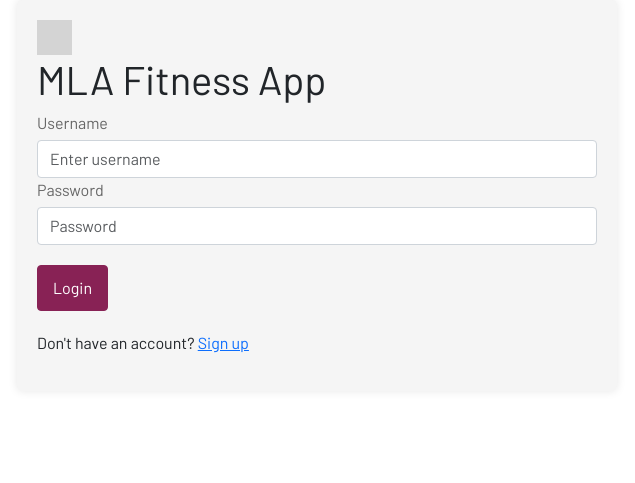
Test case: Login component › displays error message on failed login
In the field with test id "username-input": x=317, y=159 [37, 140, 597, 178], type "invaliduser"
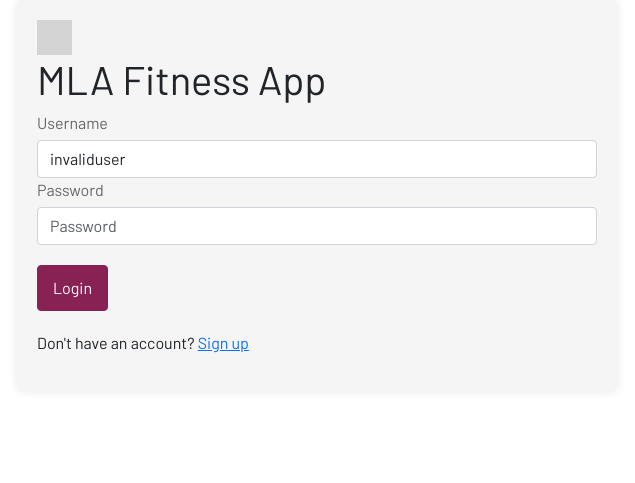
In the password field with test id "password-input": x=317, y=226 [37, 207, 597, 245], type "invalidpassword"
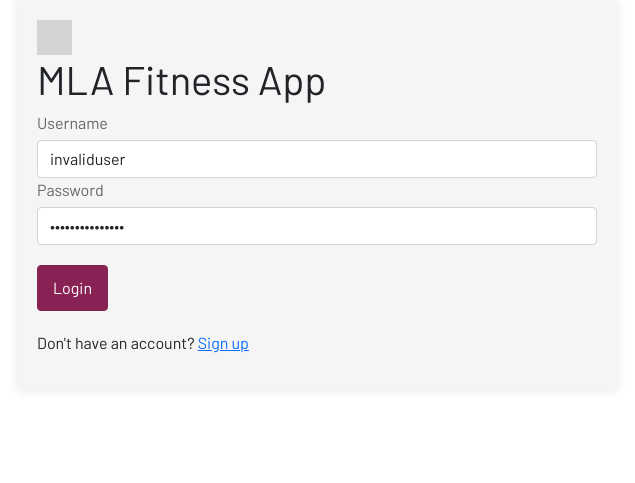
Click the button with test id "login-button": x=73, y=288 [37, 265, 108, 311]
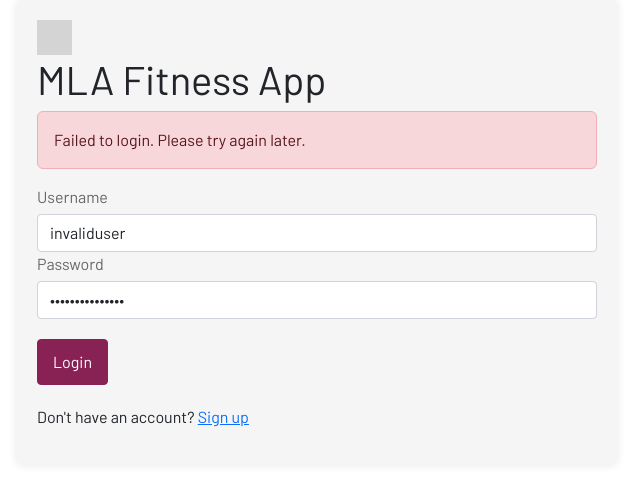
Expected: the message with test id "error-alert" shows "Failed to login", [54, 130, 306, 149]
